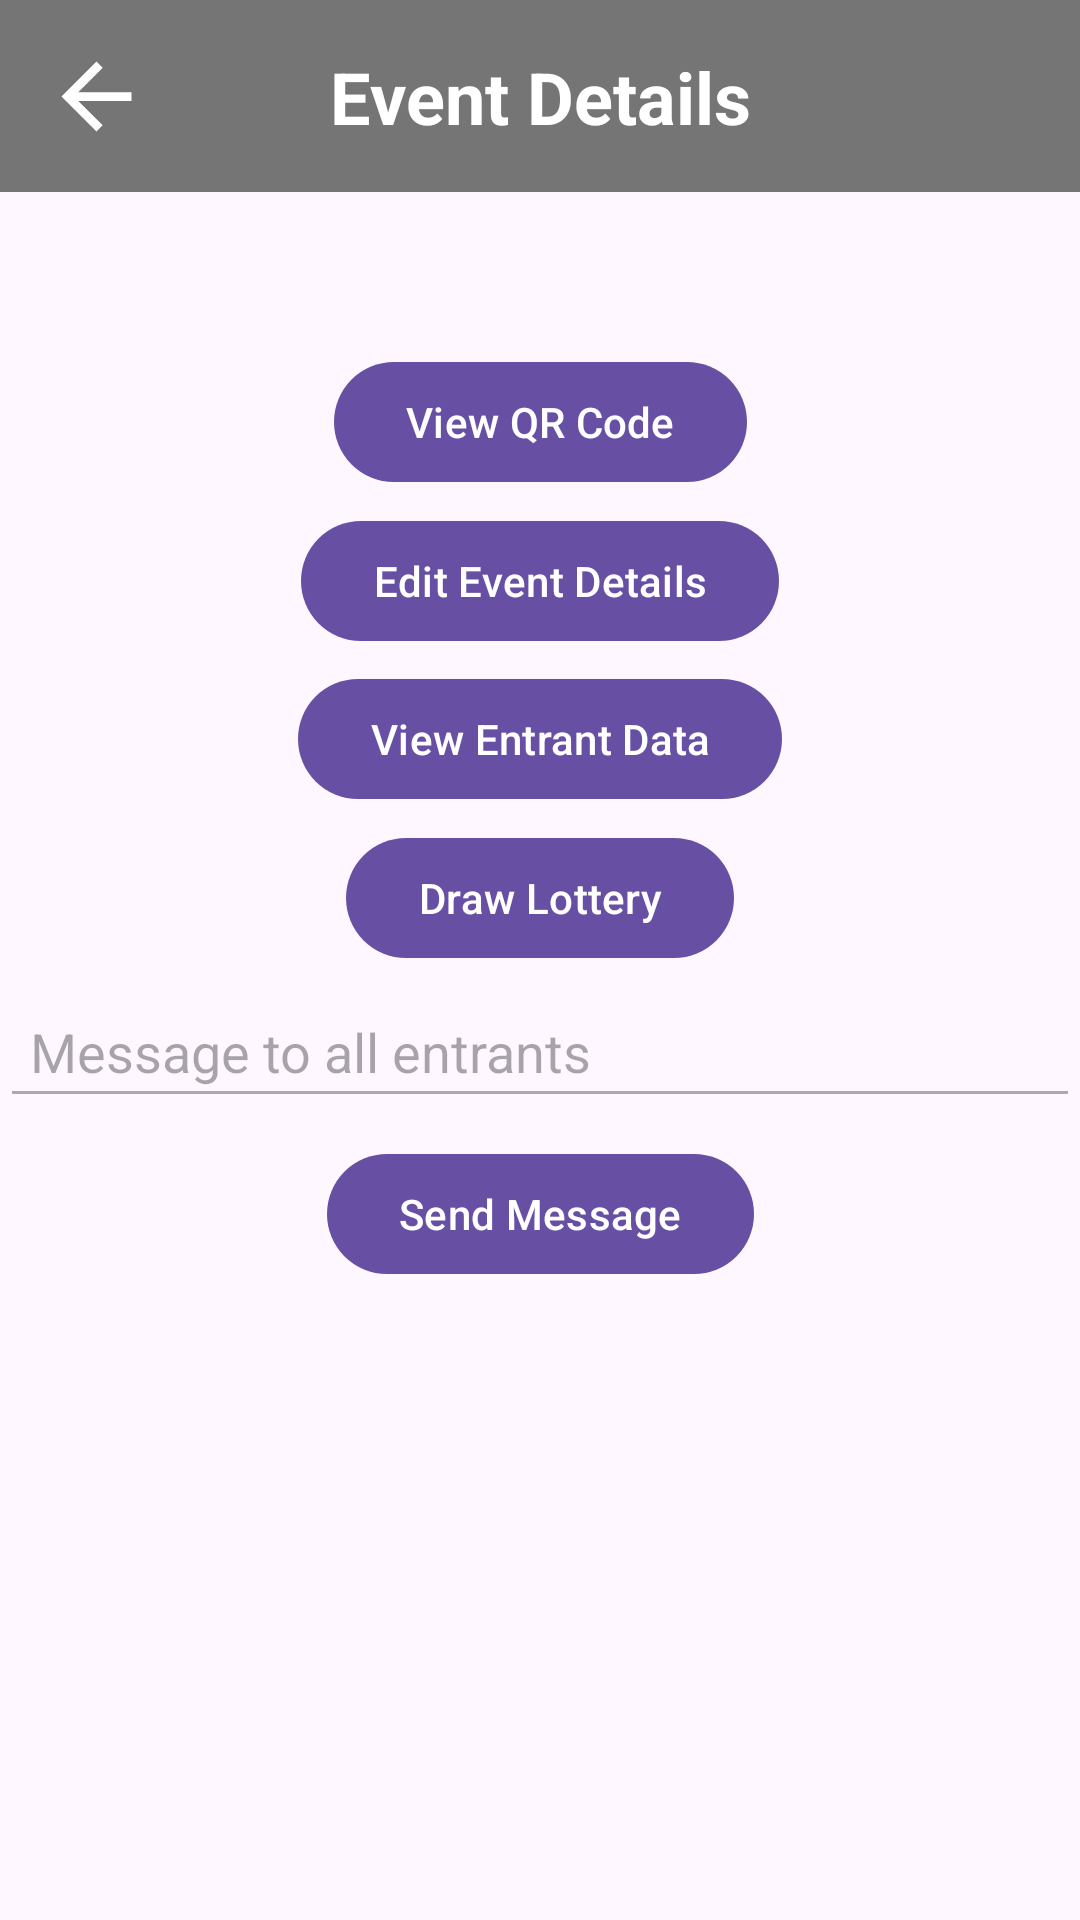

Locate icon controls on the screen. Image size 1080×1920, boxes as (x1, y1, x2, y2).
Go Back: (61, 61, 132, 132)
